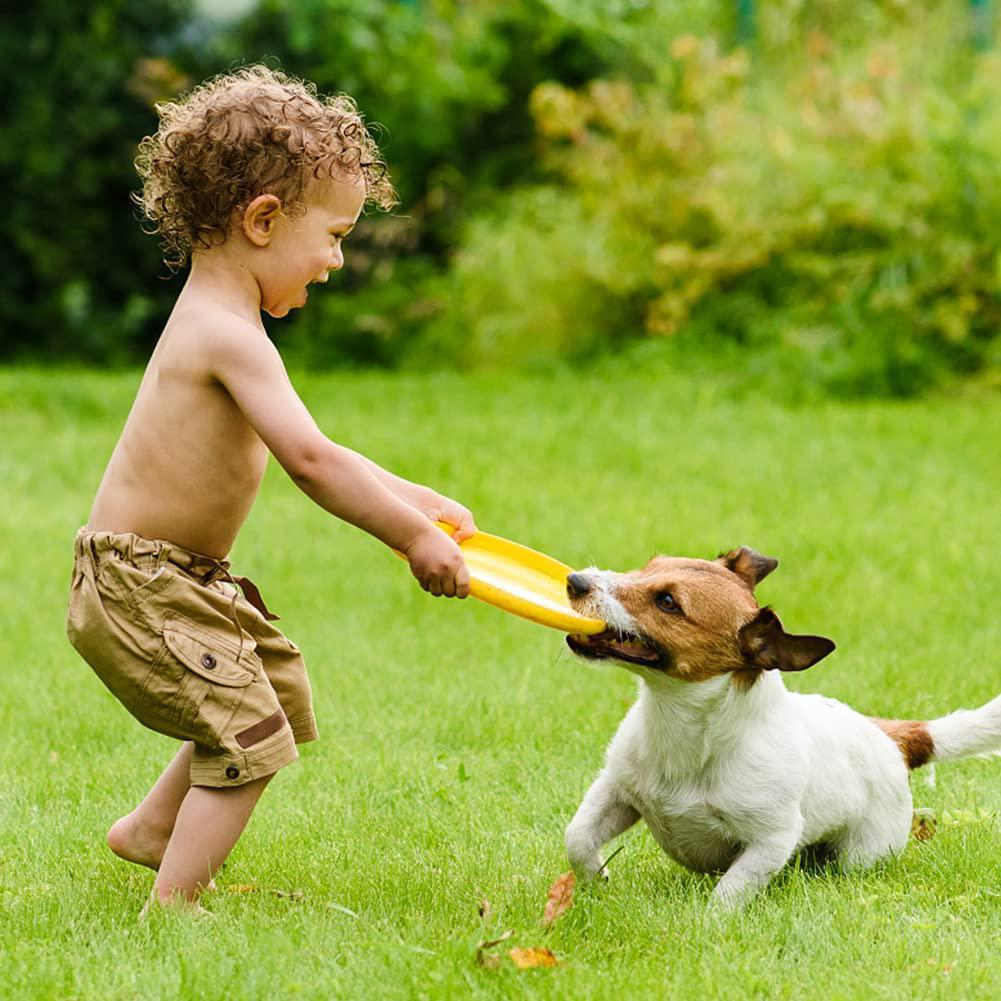child: (63, 47, 494, 940)
